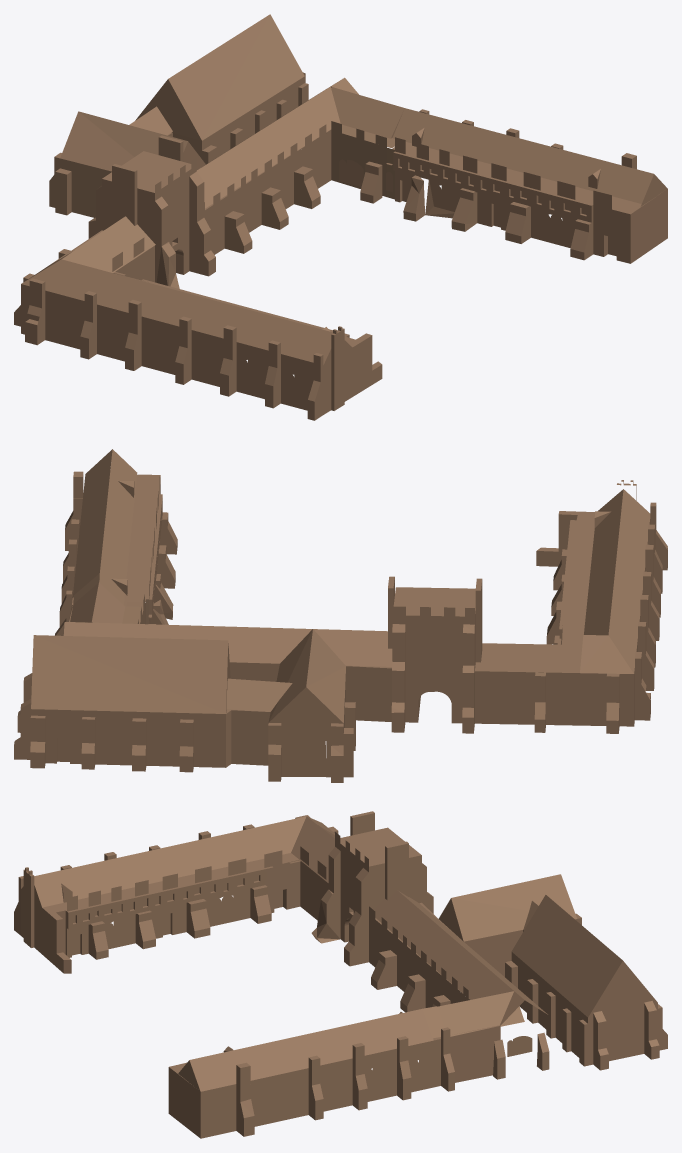
The model's file is quad.glb.
The picture shows the model from 3 angles, top to bottom: view 1: azimuth 30°, elevation 25°; view 2: azimuth 150°, elevation 25°; view 3: azimuth 270°, elevation 25°; orthographic projection. The views are drawn at different scales.
Parts seen in each view (by area): view 1: Ucc; view 2: Ucc; view 3: Ucc.
Part boxes in pixels (x1,y1,x2,y2): Ucc: (14, 14, 667, 420); Ucc: (14, 449, 667, 782); Ucc: (14, 811, 667, 1138).
Bounding box in the file's own units: 12.86 × 2.6 × 13.08.
